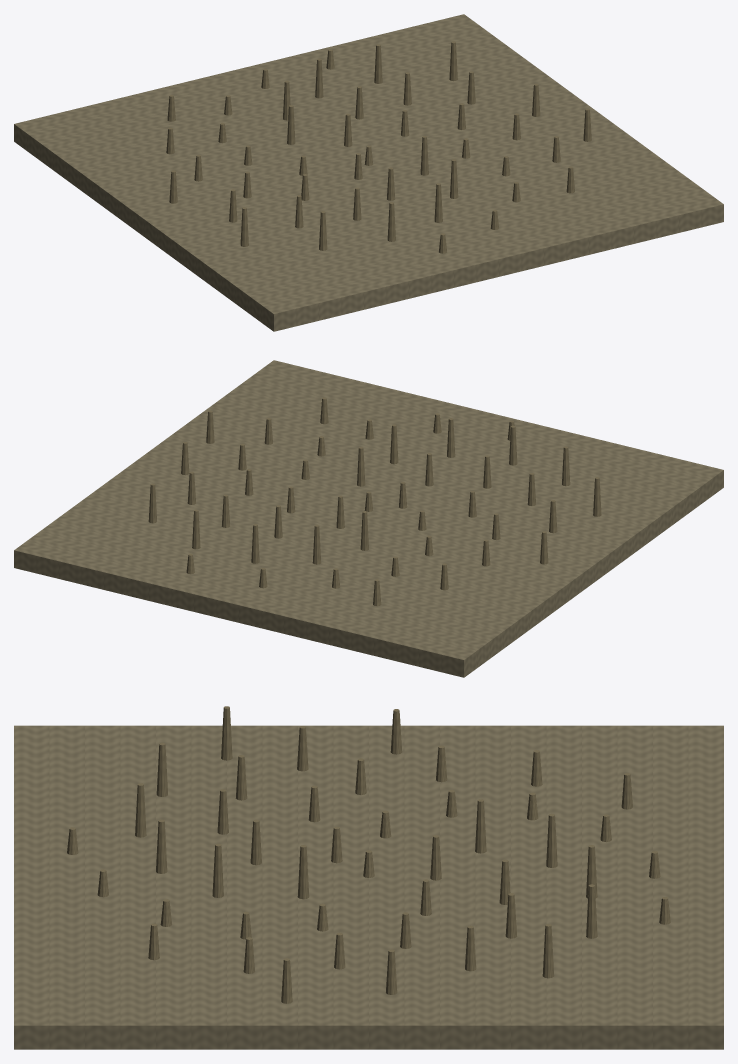
Rendered from pneumatophore_field_tile_swamp_and_mangrove_22617.glb.
3 views of the same model, one above another, from view 1: azimuth 30°, elevation 25°; view 2: azimuth 150°, elevation 25°; view 3: azimuth 270°, elevation 25° (orthographic). The views are drawn at different scales.
Visible parts, largest first — view 1: pneumatophore-tile; view 2: pneumatophore-tile; view 3: pneumatophore-tile.
Part boxes in pixels (x1,y1,x2,y2): pneumatophore-tile: (14, 14, 723, 331); pneumatophore-tile: (14, 360, 723, 677); pneumatophore-tile: (14, 706, 723, 1049).
Size of the model in its own units: 4 by 0.465 by 4.
Materials: 2 (2 with a texture image).
